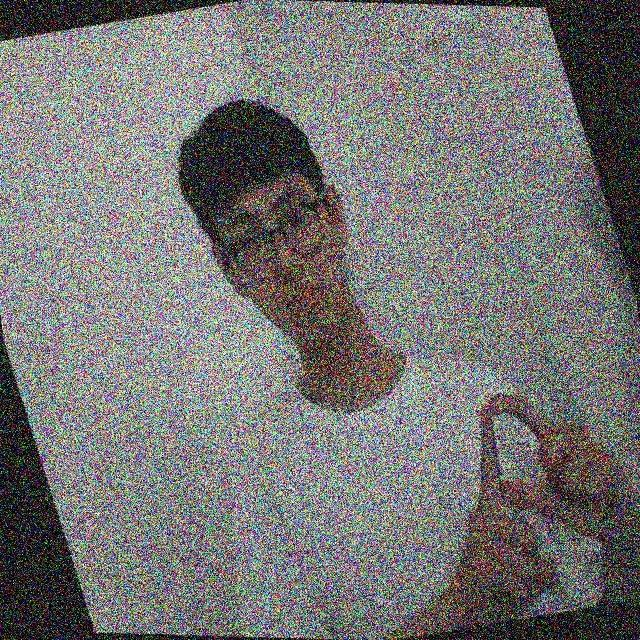D: (472, 393, 600, 569)
